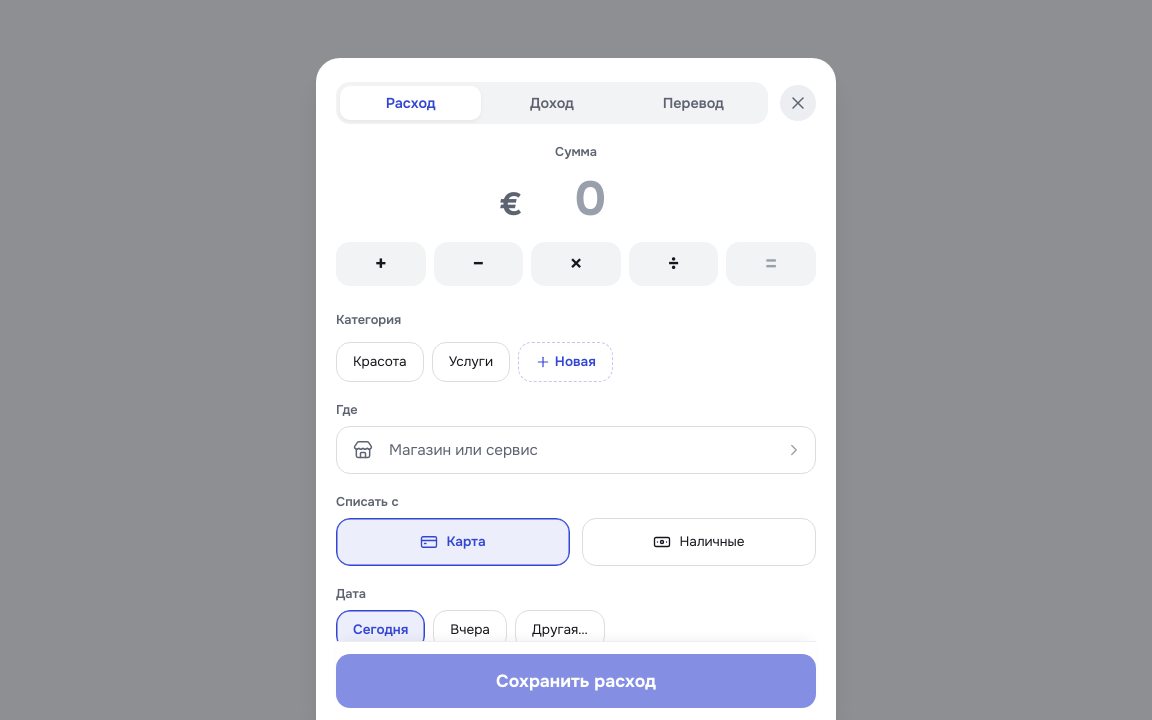
Test case: company field logo status and actions › offers no logo choice until a company is set
Type "34" into the field with placeholder "0" at (590, 199), box [526, 168, 653, 230]
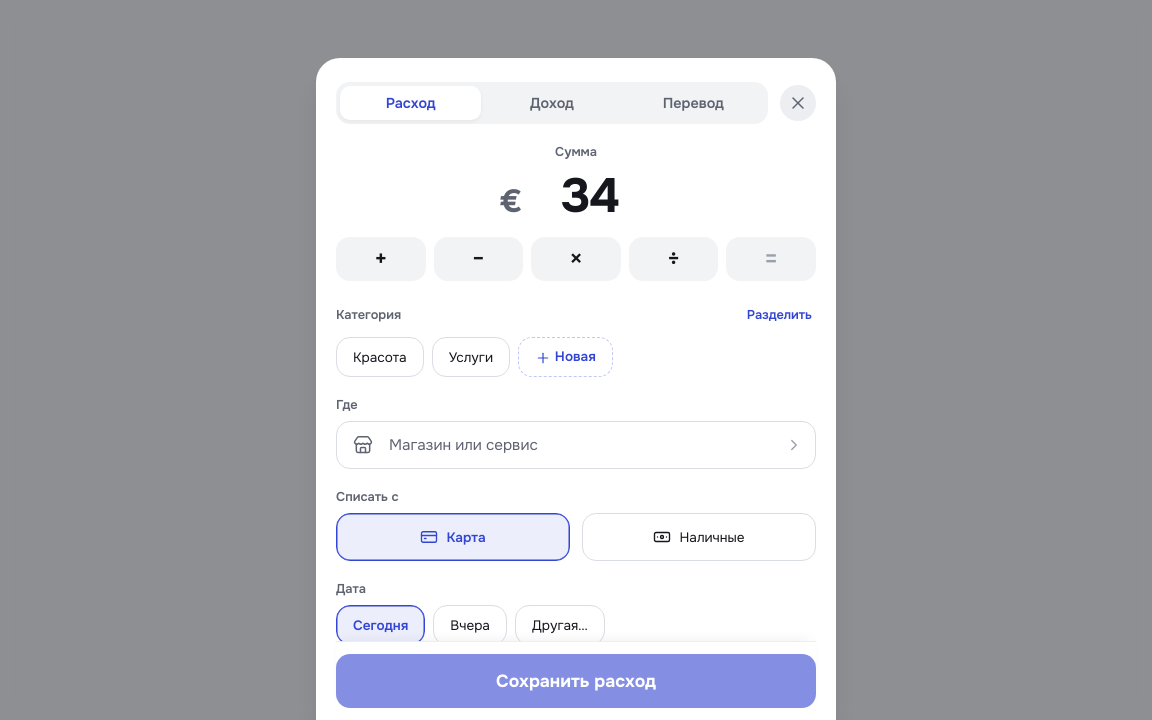
Click the button "Красота" at (380, 357), box [336, 337, 424, 377]
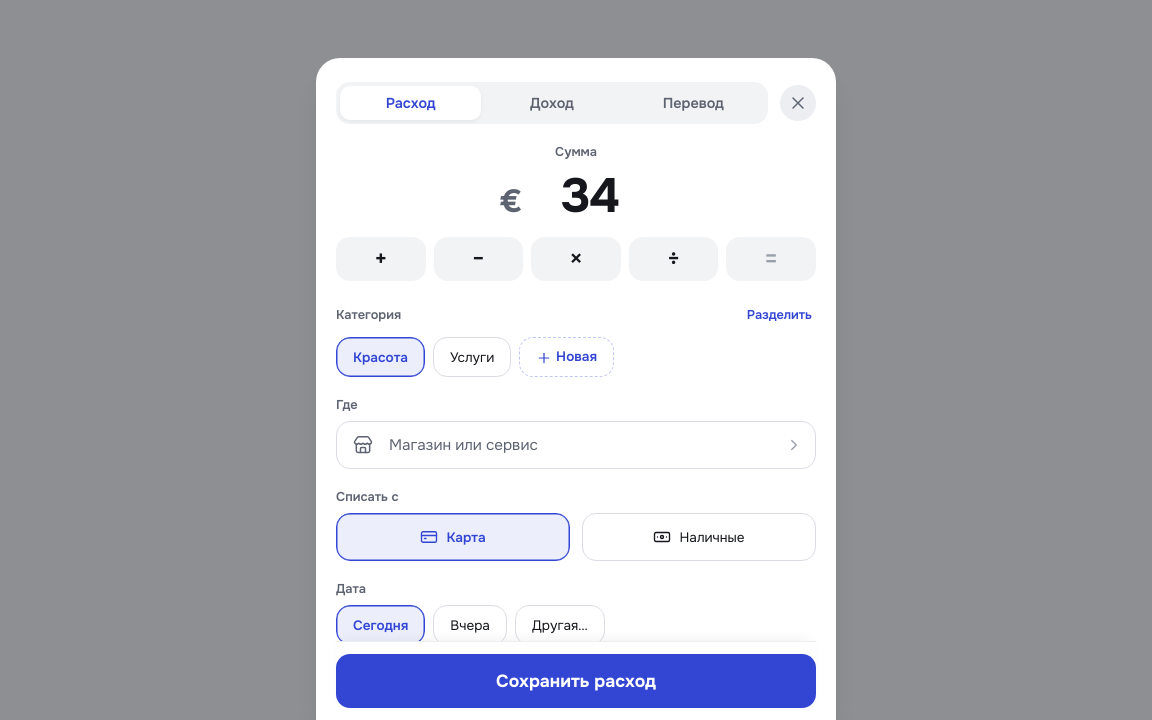
Click the button "Магазин или сервис" at (463, 445), box [336, 421, 816, 469]
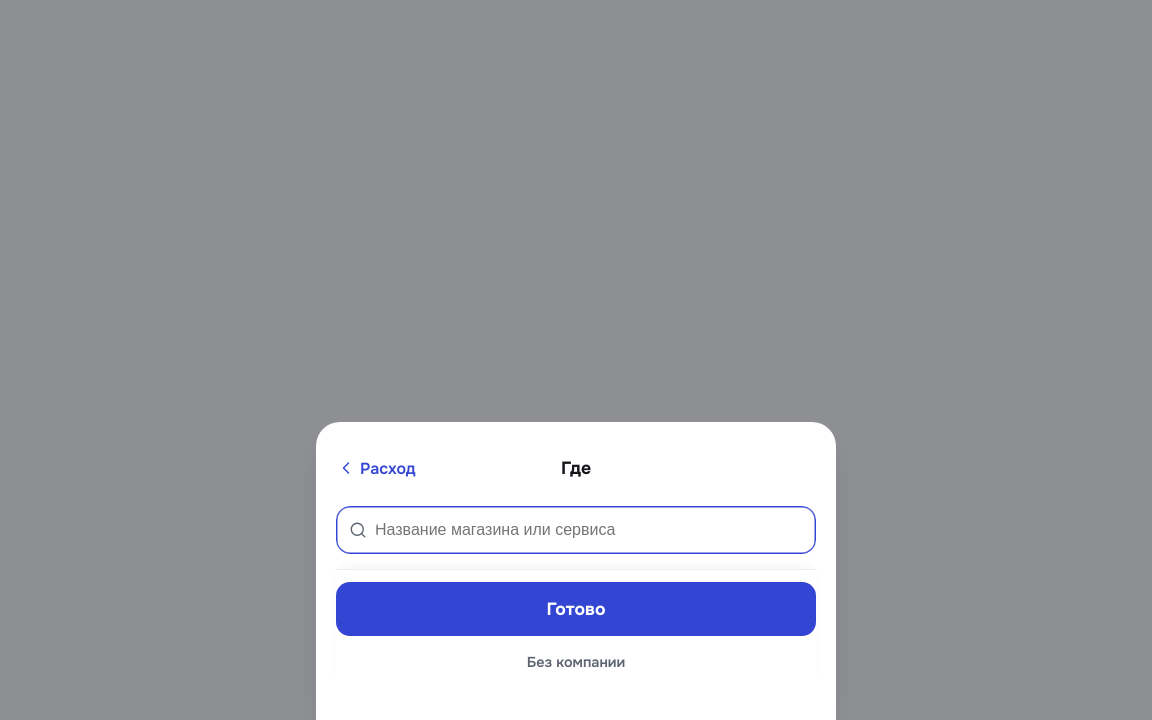
Expected: the text "Значок в списке операций" is not shown
Type "Chop Chop" into the field named "Компания" at (594, 530), box [375, 521, 813, 539]
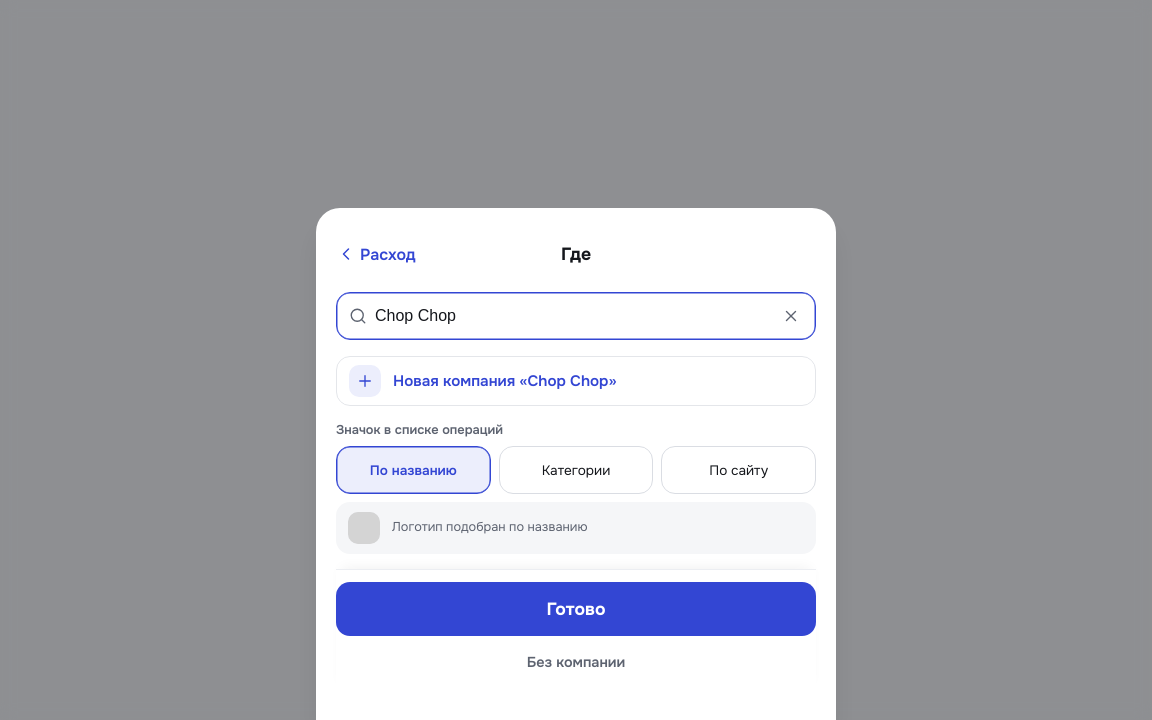
Expected: the text "Значок в списке операций" is shown, [336, 422, 503, 438]
